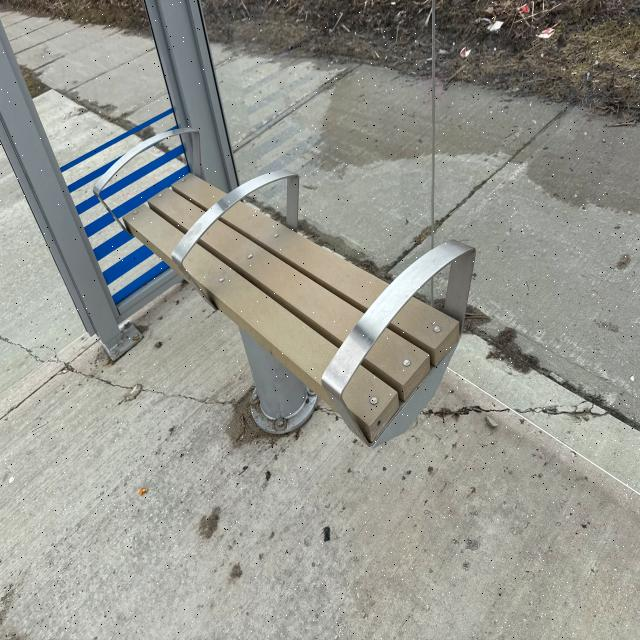Bench: (92, 119, 478, 443)
